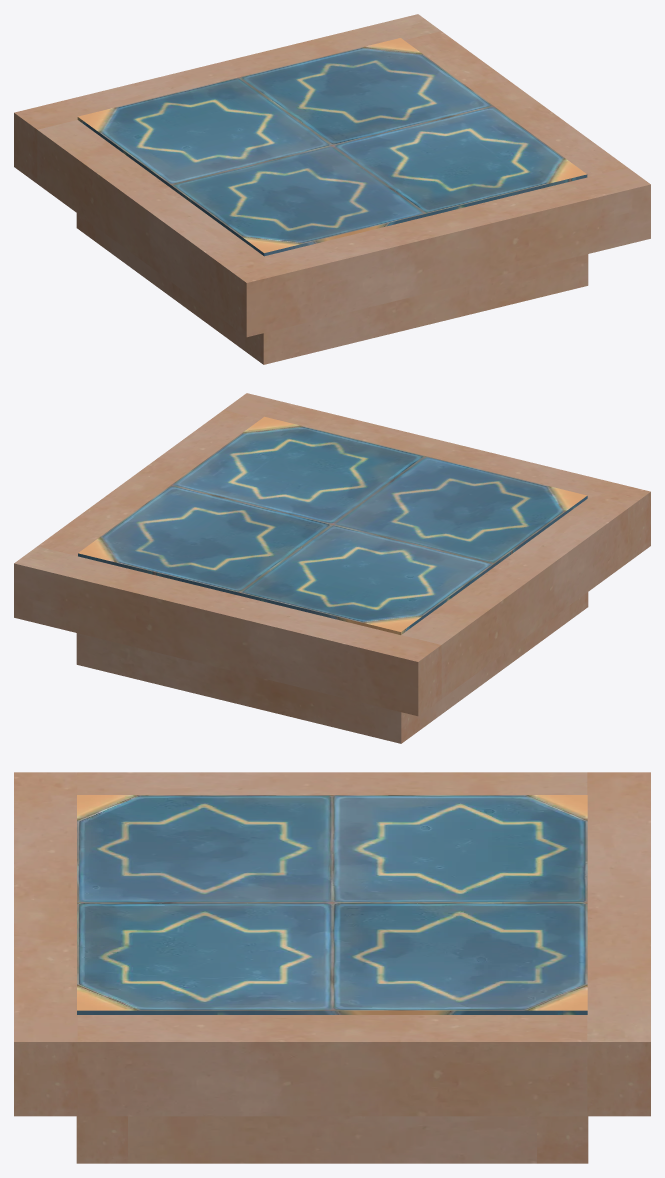
3 renders of one model, top to bottom at view 1: azimuth 30°, elevation 25°; view 2: azimuth 150°, elevation 25°; view 3: azimuth 270°, elevation 25°, orthographic. The views are drawn at different scales.
Visible parts, largest first — view 1: SM_BB_T4_Floor_Med_01_LOD0; view 2: SM_BB_T4_Floor_Med_01_LOD0; view 3: SM_BB_T4_Floor_Med_01_LOD0.
Part boxes in pixels (box(x1,y1,x2,y2)): SM_BB_T4_Floor_Med_01_LOD0: box(14, 14, 650, 364); SM_BB_T4_Floor_Med_01_LOD0: box(14, 393, 650, 743); SM_BB_T4_Floor_Med_01_LOD0: box(14, 772, 650, 1163).
Bounding box in the file's own units: 1.88 × 0.4946 × 1.87.
Materials: 2 (2 with a texture image).
